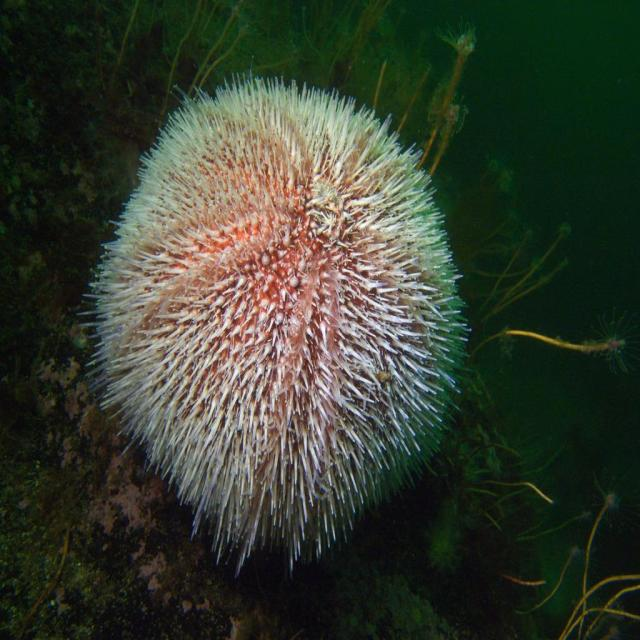Deniz Kestanesi: (77, 52, 474, 584)
